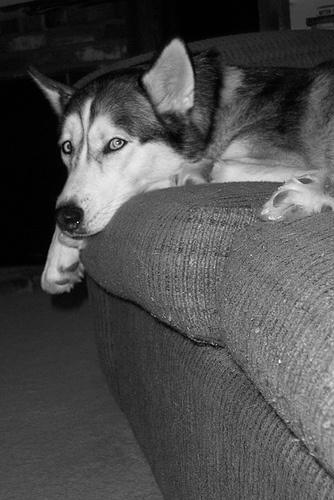dog: (22, 48, 334, 297)
sofa: (74, 32, 334, 500)
